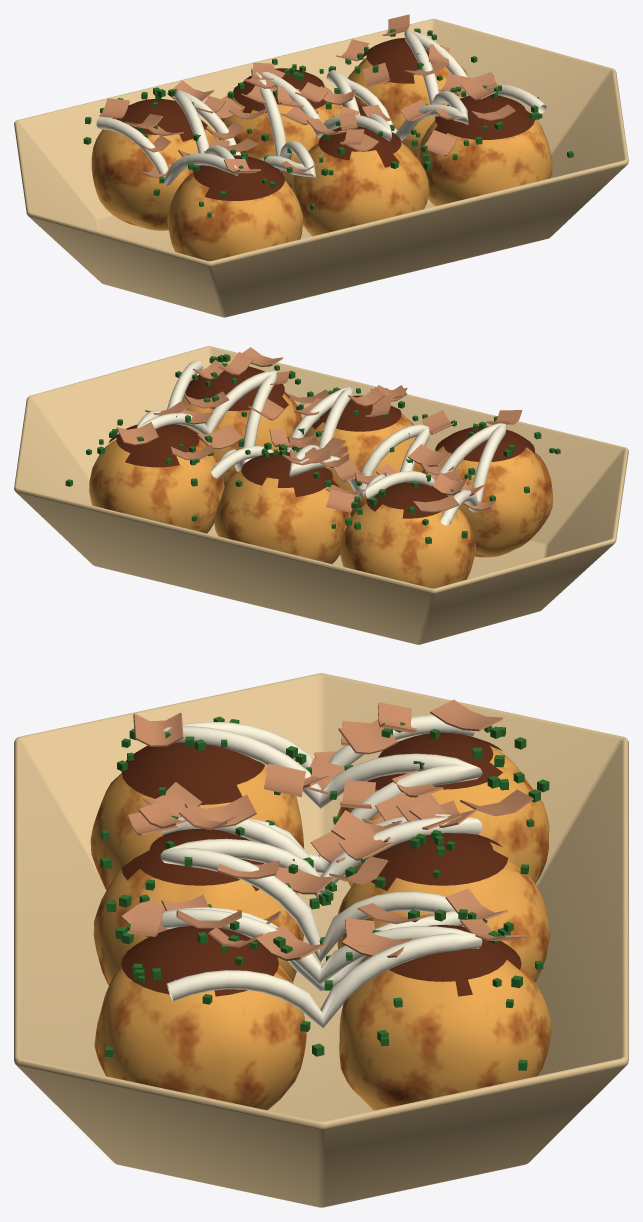
File: Takoyaki_Boat.fbx
3 views of the same model, one above another, from view 1: azimuth 30°, elevation 25°; view 2: azimuth 150°, elevation 25°; view 3: azimuth 270°, elevation 25° (orthographic). The views are drawn at different scales.
Parts seen in each view (by area): view 1: Takoyaki_Boat; view 2: Takoyaki_Boat; view 3: Takoyaki_Boat.
Boxes of the visible parts, x1,y1,x2,y2 form: Takoyaki_Boat: (14, 14, 628, 317); Takoyaki_Boat: (14, 346, 628, 644); Takoyaki_Boat: (14, 673, 628, 1207).
Size of the model in its own units: 0.2115 by 0.0487 by 0.1217.
6 materials, 1 textured.
